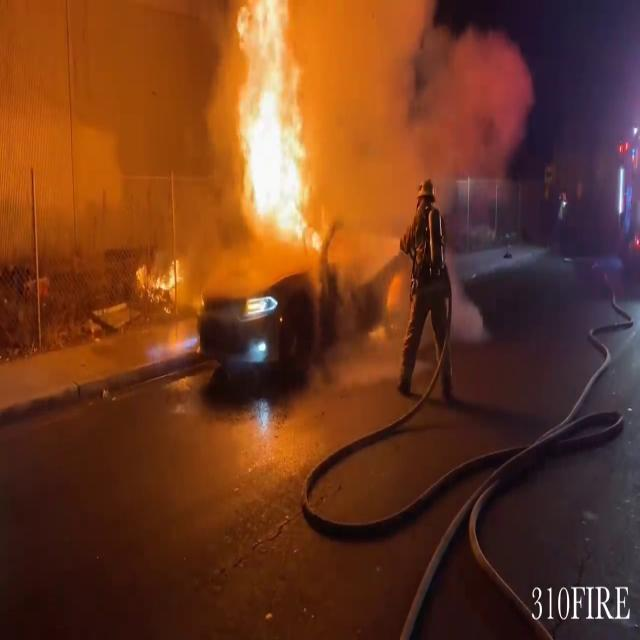Fire: (212, 2, 326, 250)
Smoke: (304, 1, 533, 246)
